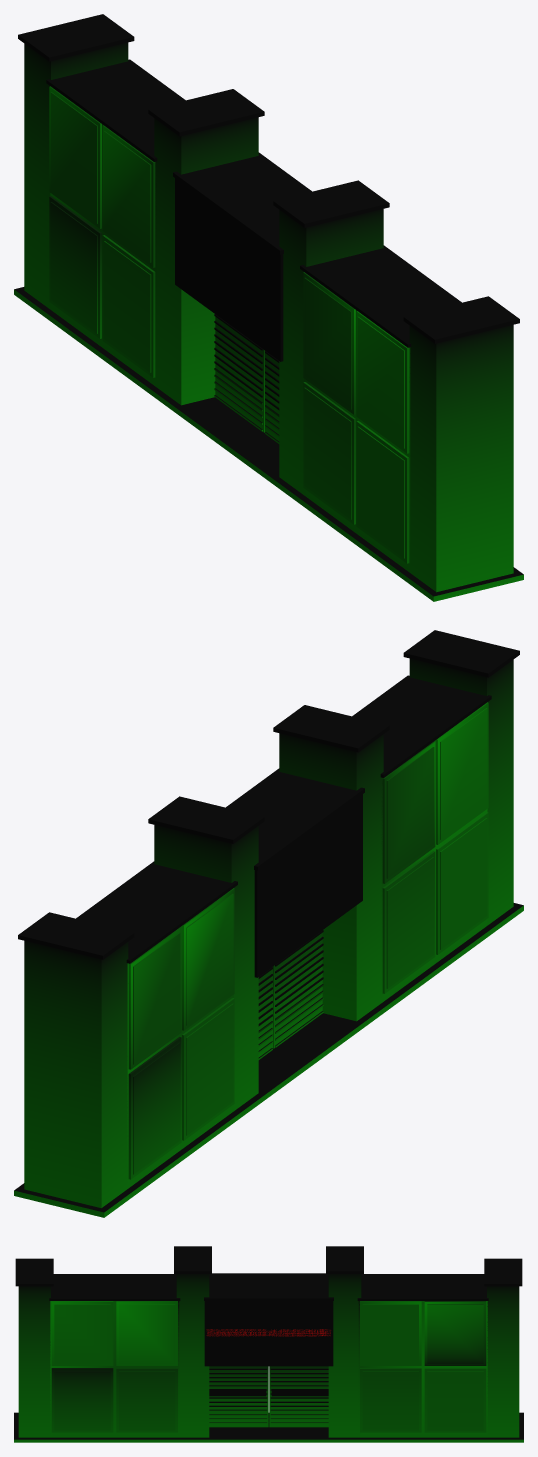
The model's file is s_heavygate.glb.
The picture shows the model from 3 angles, top to bottom: view 1: azimuth 30°, elevation 25°; view 2: azimuth 150°, elevation 25°; view 3: azimuth 270°, elevation 25°; orthographic projection. The views are drawn at different scales.
Visible parts, largest first — view 1: lod0, door_l, door_r; view 2: lod0, door_r, door_l; view 3: lod0, door_l, door_r.
Part boxes in pixels (<box>): lod0: <box>14,14,523,601</box>; door_l: <box>214,314,264,432</box>; door_r: <box>265,351,279,443</box>; lod0: <box>14,630,523,1217</box>; door_r: <box>273,930,323,1048</box>; door_l: <box>258,967,272,1059</box>; lod0: <box>14,1246,523,1442</box>; door_l: <box>269,1366,328,1427</box>; door_r: <box>209,1366,268,1427</box>.
Size of what is drawn, in the model's own units: 7 by 20.82 by 56.4.
